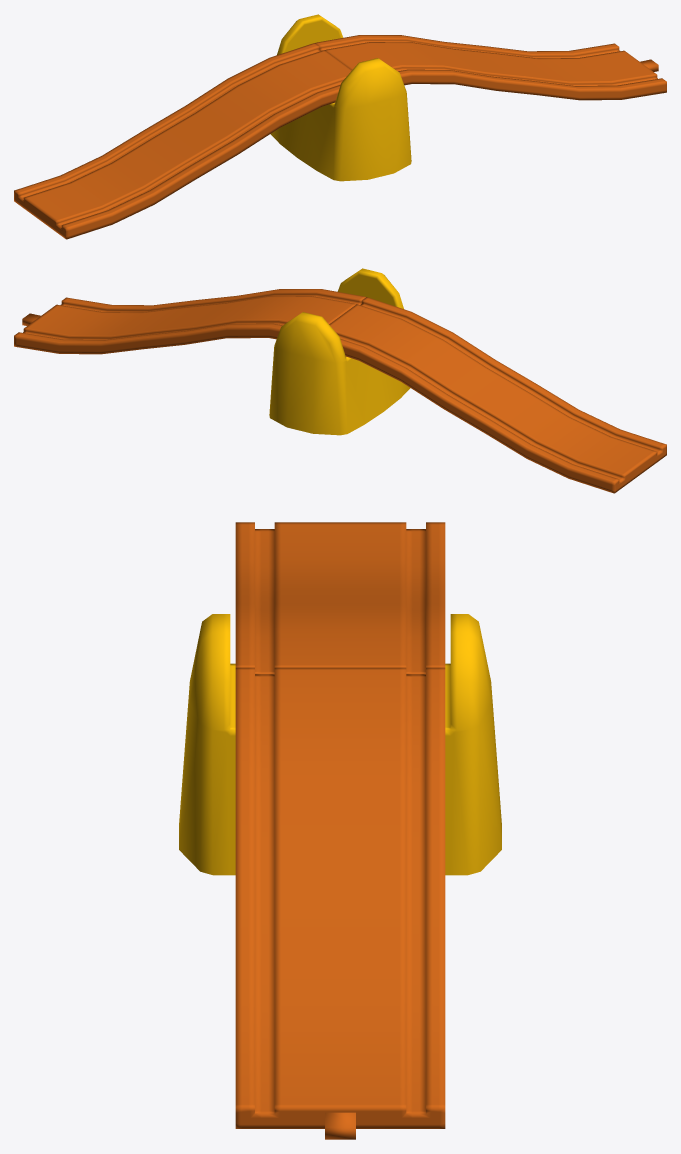
Rendered from train_rail_pylon_01.FBX.
3 renders of one model, top to bottom at view 1: azimuth 30°, elevation 25°; view 2: azimuth 150°, elevation 25°; view 3: azimuth 270°, elevation 25°, orthographic. The views are drawn at different scales.
Parts seen in each view (by area): view 1: train_rail_elevation_up_01, train_rail_elevation_down_01, train_rail_pylon_01; view 2: train_rail_elevation_up_01, train_rail_elevation_down_01, train_rail_pylon_01; view 3: train_rail_elevation_down_01, train_rail_elevation_up_01, train_rail_pylon_01.
Boxes of the visible parts, x1,y1,x2,y2 form: train_rail_elevation_up_01: [14, 43, 351, 239]; train_rail_elevation_down_01: [315, 35, 666, 100]; train_rail_pylon_01: [270, 14, 411, 181]; train_rail_elevation_up_01: [329, 297, 666, 493]; train_rail_elevation_down_01: [14, 289, 365, 354]; train_rail_pylon_01: [269, 268, 410, 435]; train_rail_elevation_down_01: [235, 667, 445, 1139]; train_rail_elevation_up_01: [235, 522, 445, 674]; train_rail_pylon_01: [179, 614, 501, 875].
Bounding box in the file's own units: 3155 × 525 × 718.
